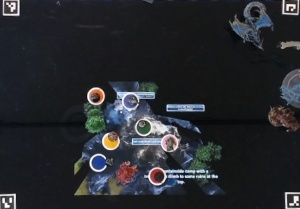blue: (85, 152, 112, 172)
green: (134, 119, 154, 138)
orange: (84, 86, 108, 106)
pink: (157, 134, 182, 153)
red: (144, 166, 170, 187)
violet: (120, 92, 141, 111)
yellow: (102, 130, 121, 151)
